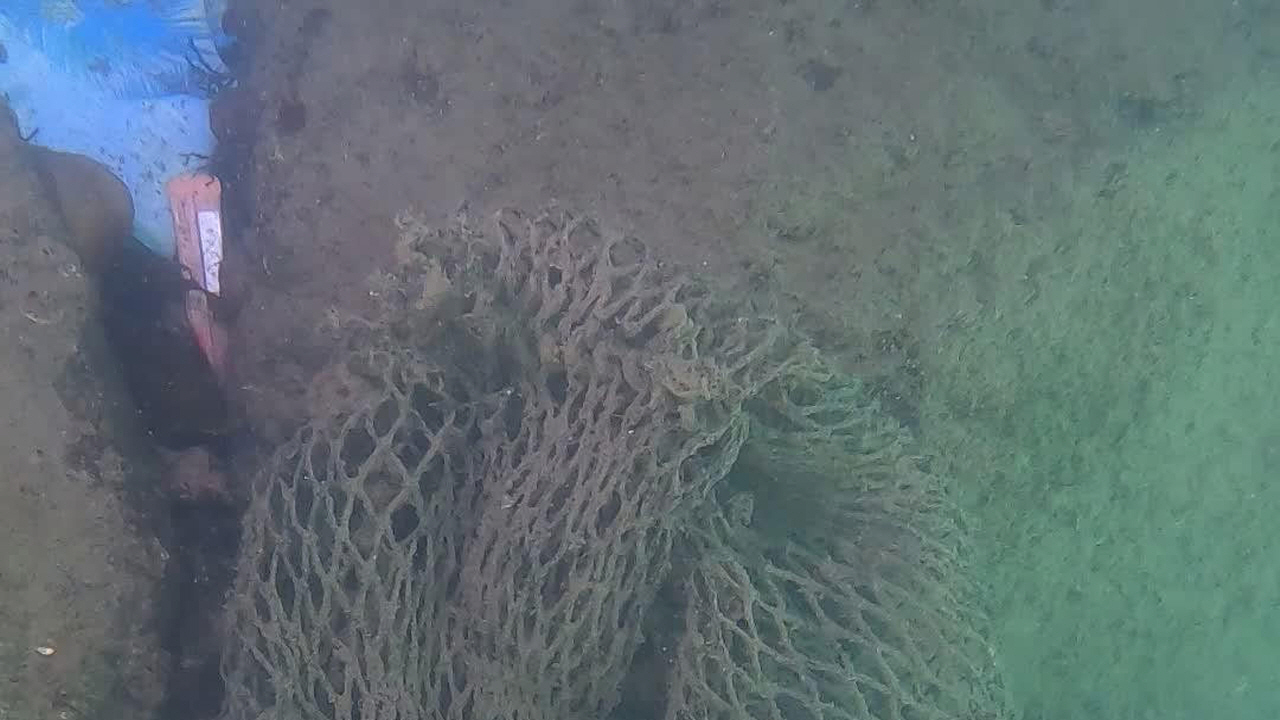fish net: (218, 208, 999, 718)
